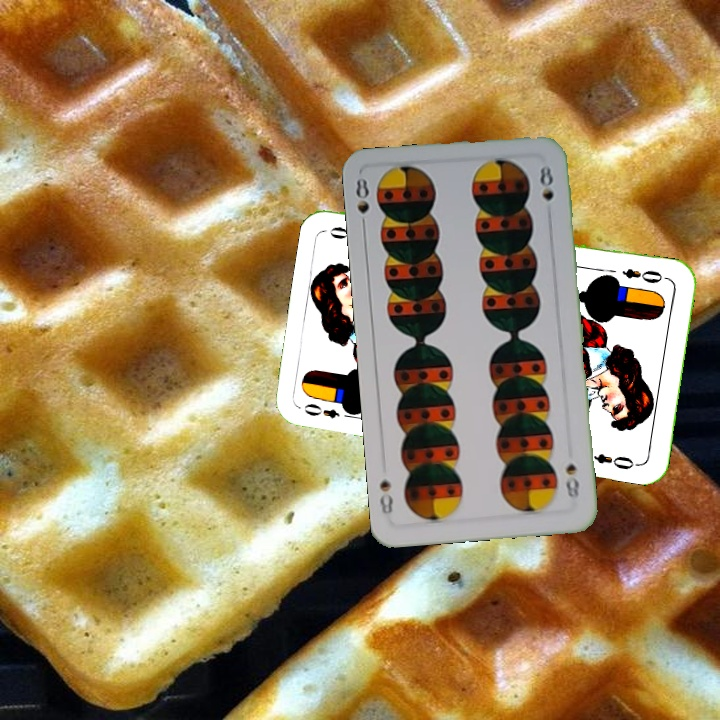EO: (299, 399, 357, 421), (618, 264, 671, 286)
S8: (352, 173, 372, 233), (561, 460, 582, 501)
